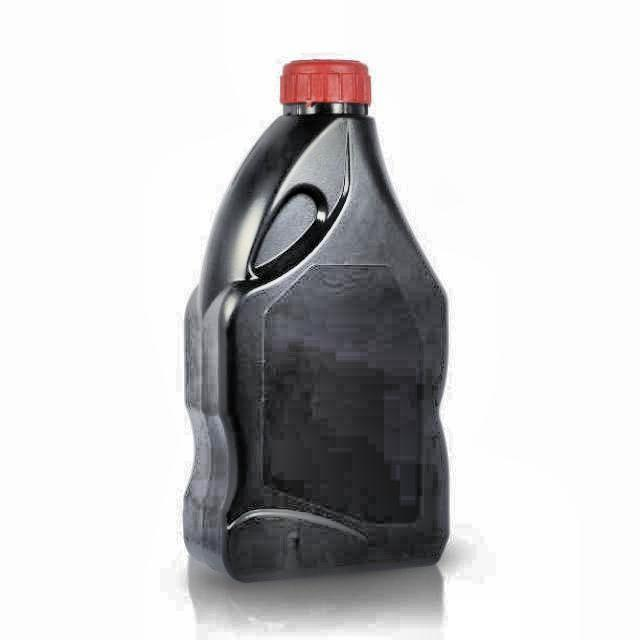plastic: (182, 60, 451, 587)
